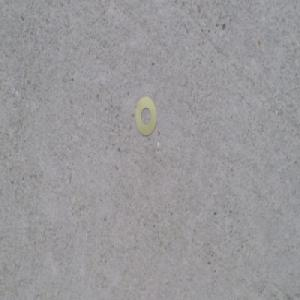Washer: (134, 96, 157, 138)
